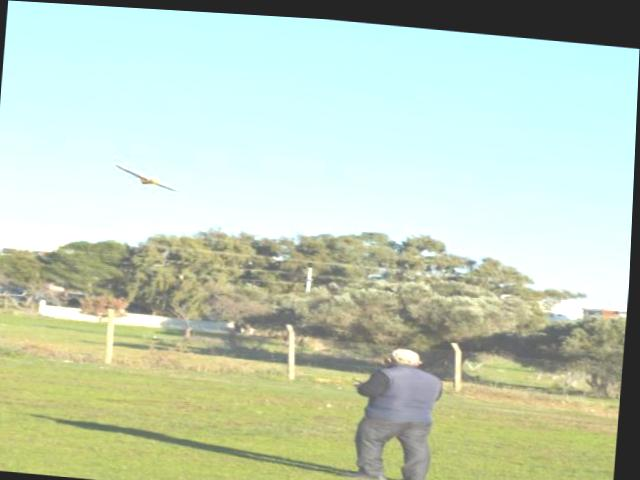iha: (115, 163, 183, 190)
